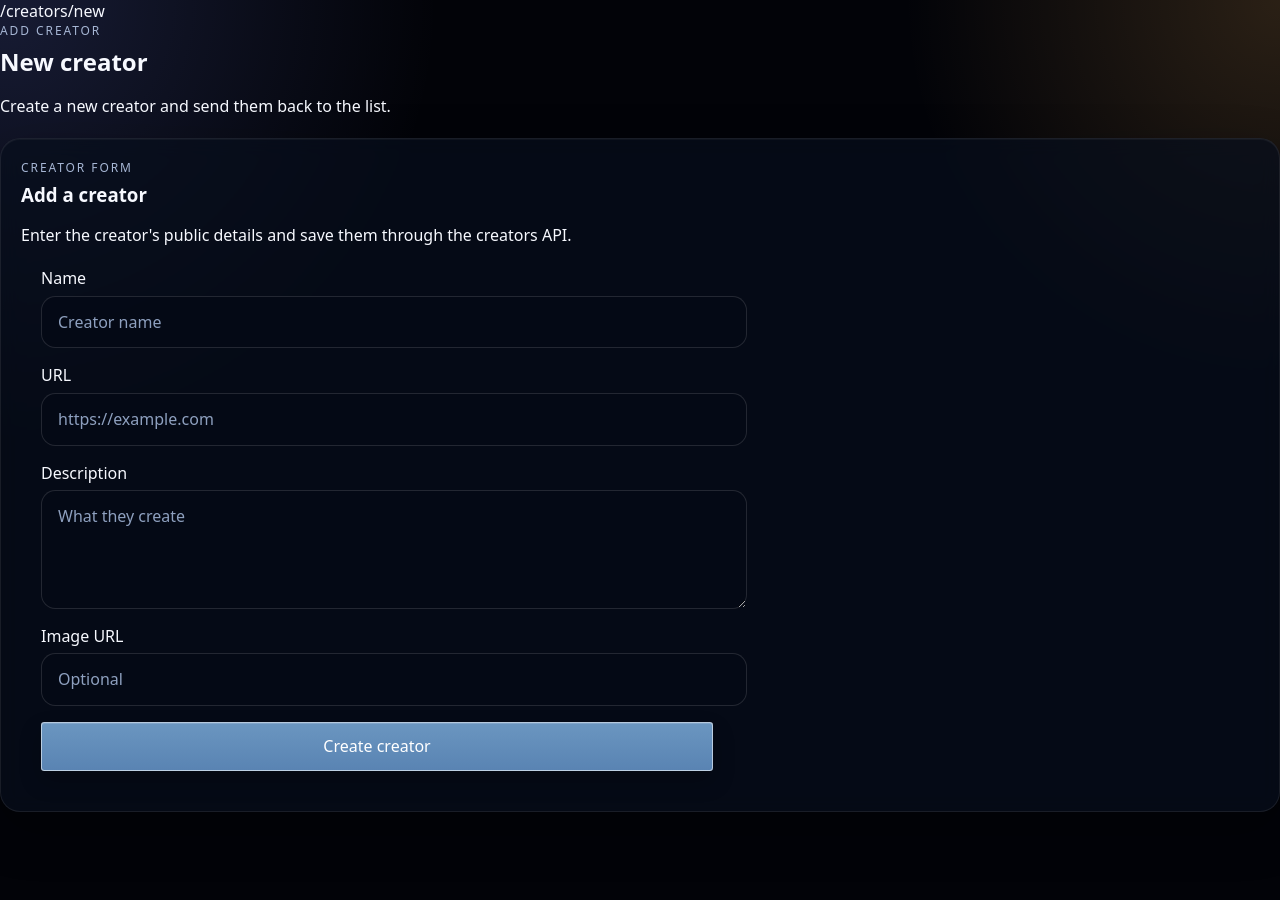
it: AddCreator › shows a readable error when creation fails
This screenshot has width=1280, height=900.
Type "Ada" into the field labelled "Name". click: [394, 322]
box: [41, 296, 747, 348]
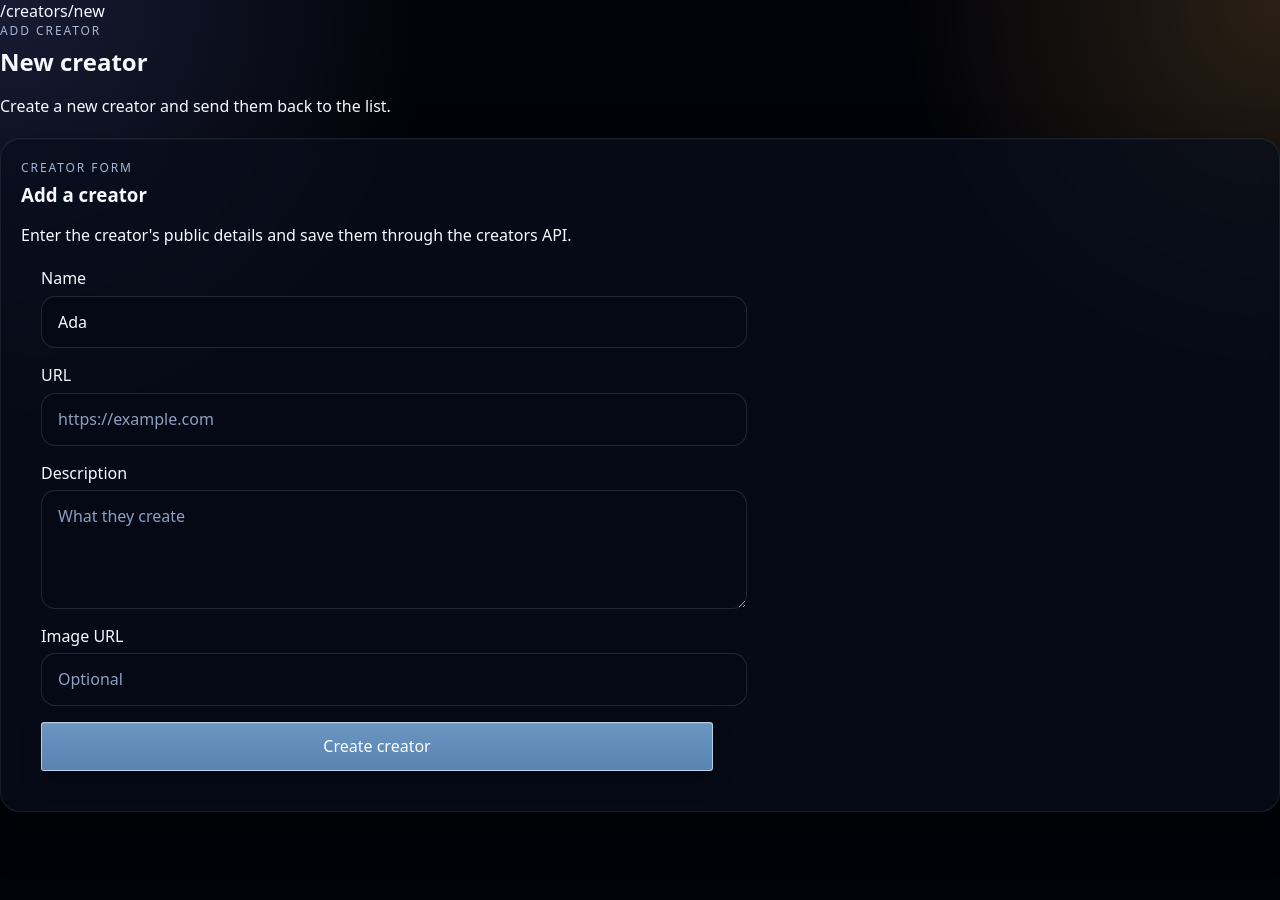
Type "https://example.com/ada" into the field labelled "URL". click: [394, 419]
box: [41, 393, 747, 446]
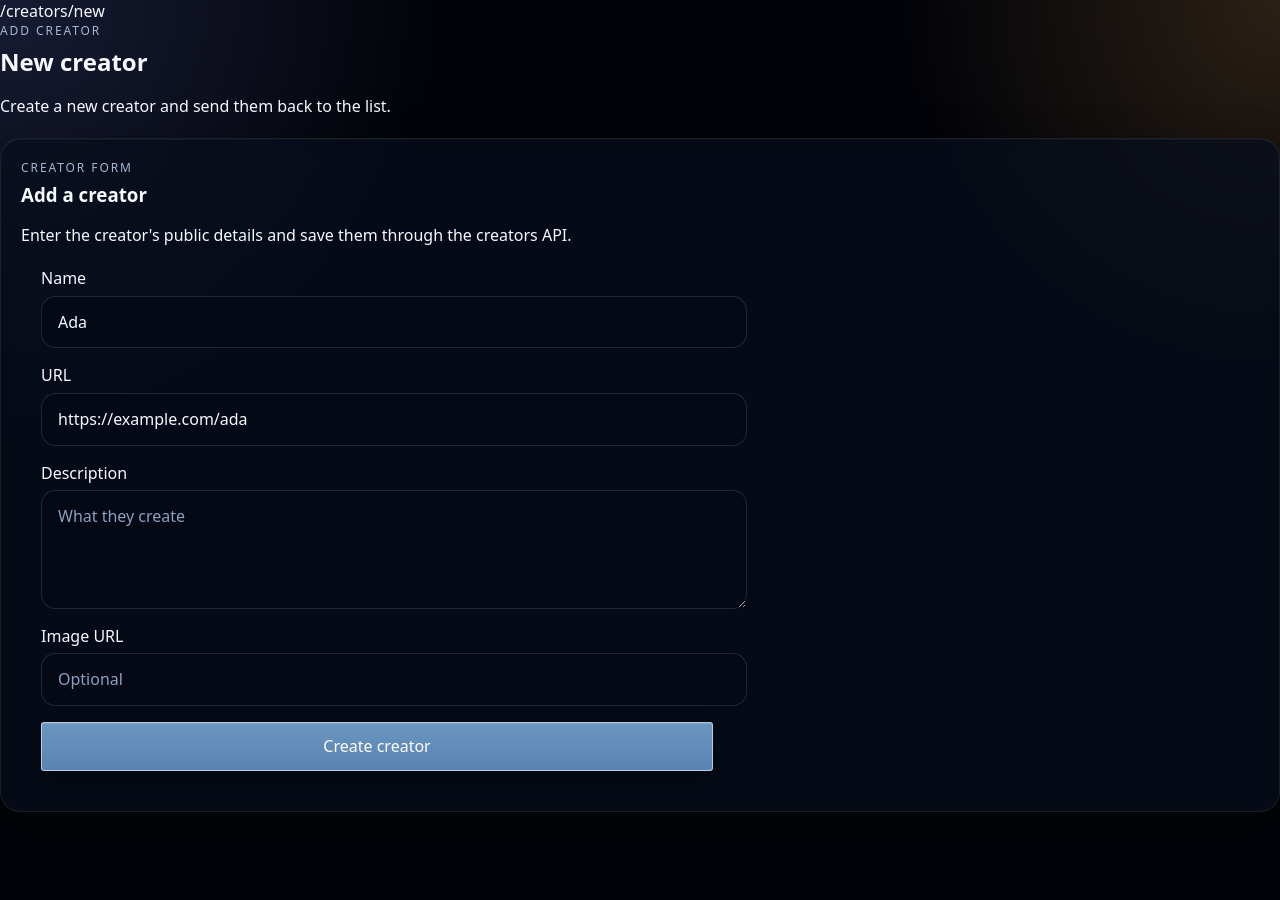
Type "Builds with precision." into the text box labelled "Description". click: [394, 549]
box: [41, 490, 747, 609]
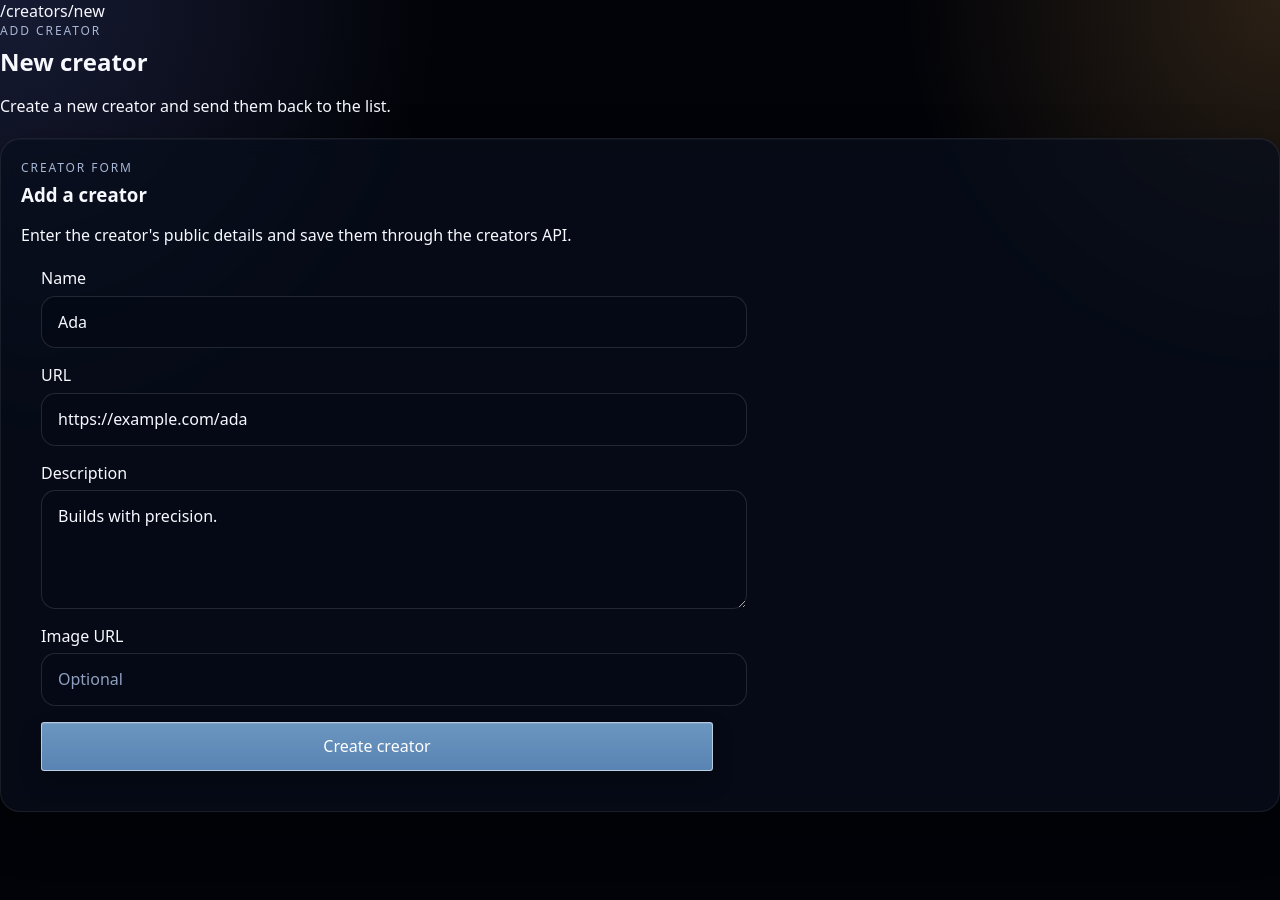
Click the button "Create creator". click: [377, 746]
box: [41, 722, 713, 771]
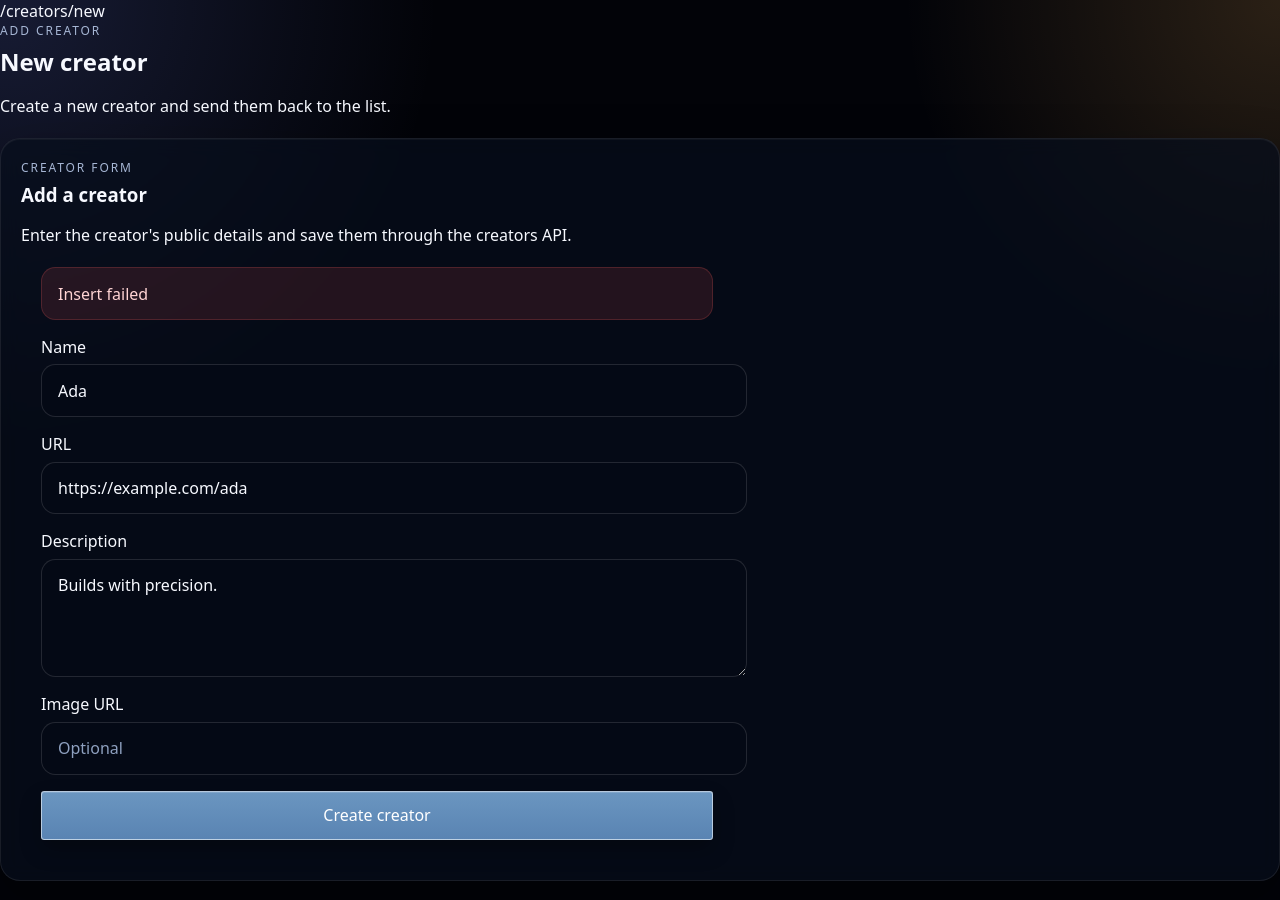
Expected: the text with test id "location" reads "/creators/new", [0, 0, 105, 22]
Expected: the message reads "Insert failed", [58, 283, 148, 305]
